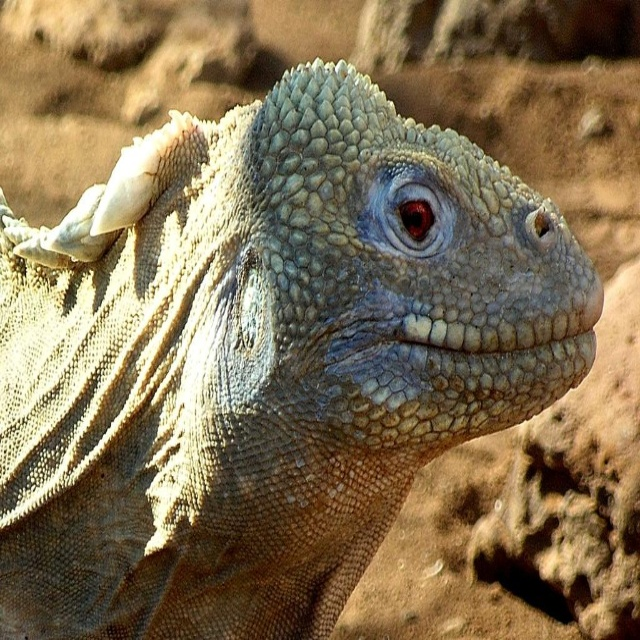Lizard: (0, 56, 605, 640)
